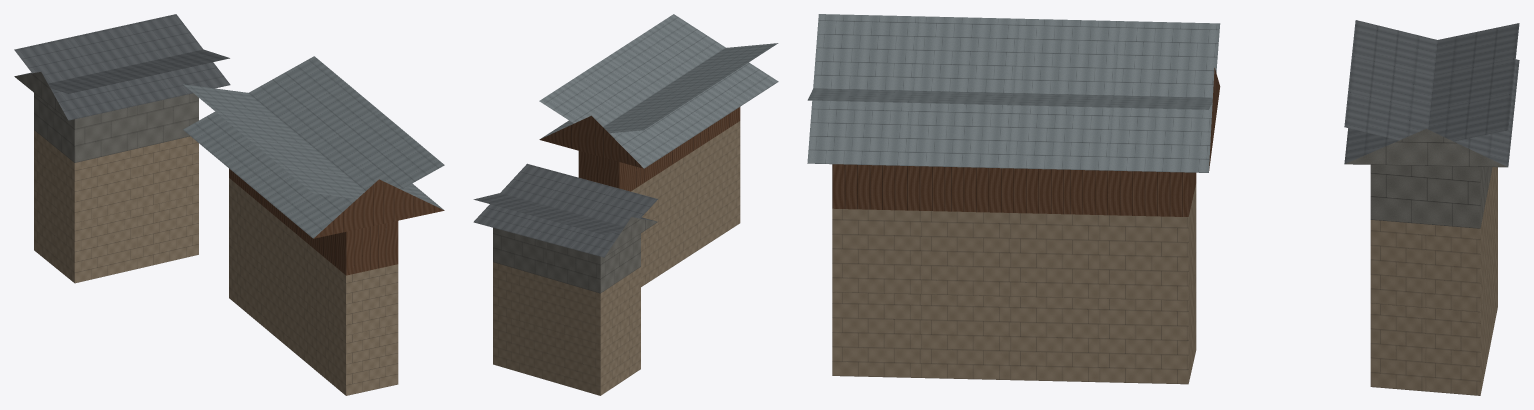
Rendered from bld_c32_46_237.gltf.
3 renders of one model, left to right at view 1: azimuth 30°, elevation 25°; view 2: azimuth 150°, elevation 25°; view 3: azimuth 270°, elevation 25°, orthographic. The views are drawn at different scales.
Parts seen in each view (by area): view 1: bld_c32_46_237; view 2: bld_c32_46_237; view 3: bld_c32_46_237.
Part boxes in pixels (x1=…): bld_c32_46_237: x1=14, y1=14, x2=444, y2=395; bld_c32_46_237: x1=473, y1=14, x2=778, y2=395; bld_c32_46_237: x1=807, y1=14, x2=1519, y2=395.
Bounding box in the file's own units: 7.55 × 8.5 × 17.37.
7 materials, 7 textured.
